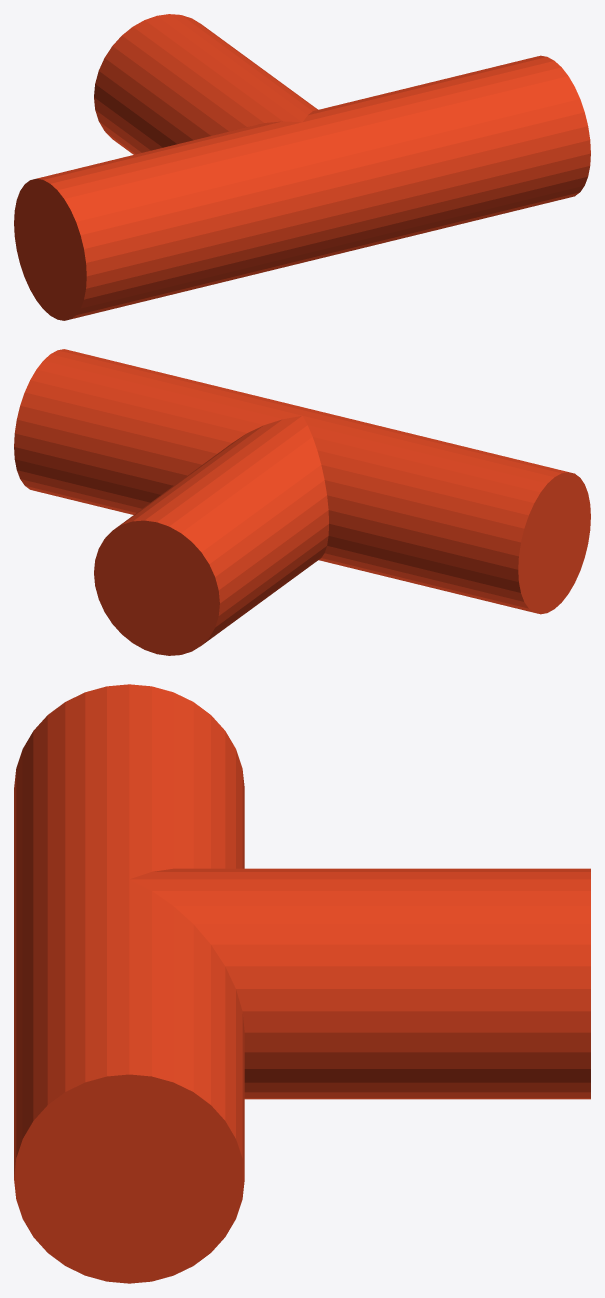
The model's file is branch_t.glb.
3 views of the same model, one above another, from view 1: azimuth 30°, elevation 25°; view 2: azimuth 150°, elevation 25°; view 3: azimuth 270°, elevation 25° (orthographic). The views are drawn at different scales.
Parts seen in each view (by area): view 1: branch; view 2: branch; view 3: branch.
Boxes of the visible parts, <box> form: branch: <box>14,14,590,320</box>; branch: <box>14,349,590,655</box>; branch: <box>14,684,590,1283</box>.
Size of the model in its own units: 4 by 1 by 2.5.
